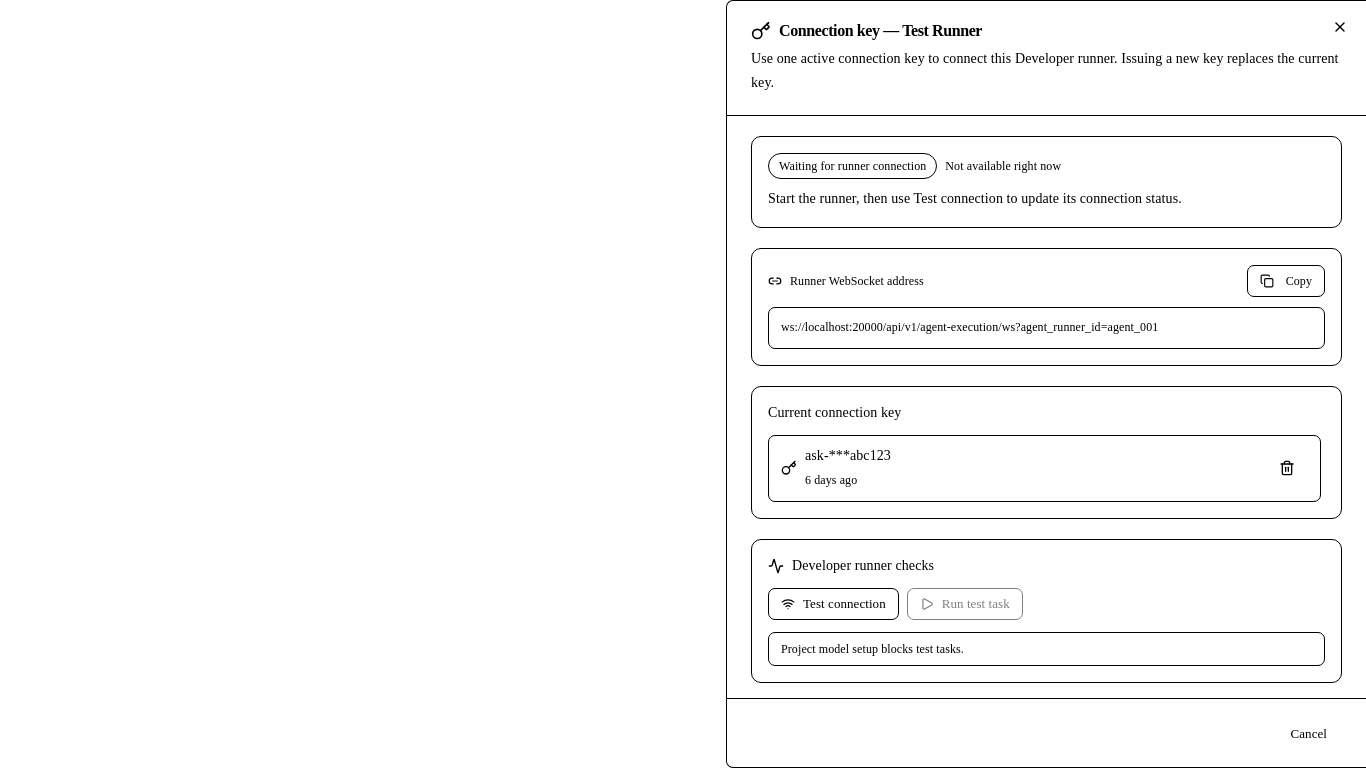
Test: AgentRunnerKeysDialog › Rendering and Display › recognizes agent_task_model_* blockers for Developer test tasks without turning them into connection failures
The width and height of the screenshot is (1366, 768).
Click the button "Test connection" at (833, 604), box top-left (768, 588), bottom-right (899, 620)
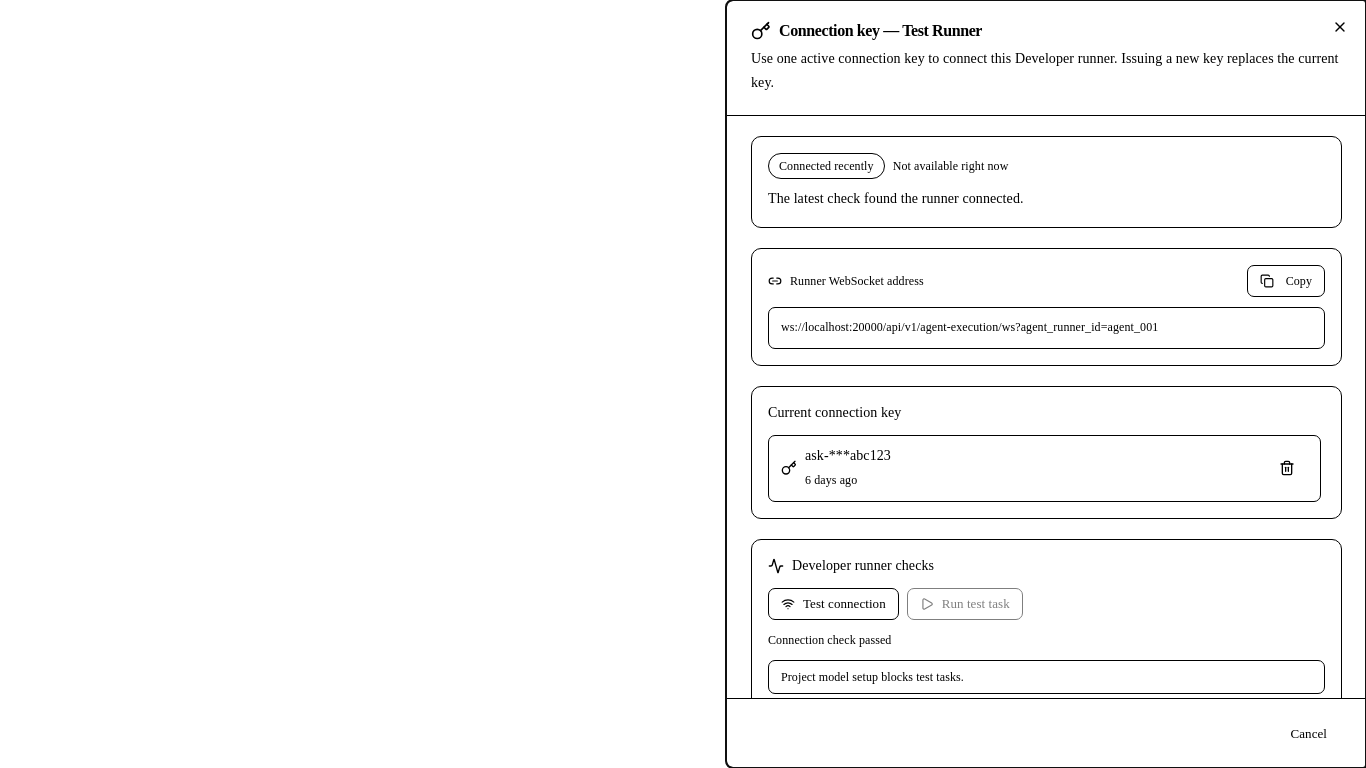
Expected: the button "Run test task" is disabled, top-left (907, 588), bottom-right (1023, 620)
Expected: the text "Connection check passed" is shown, top-left (768, 633), bottom-right (891, 647)
